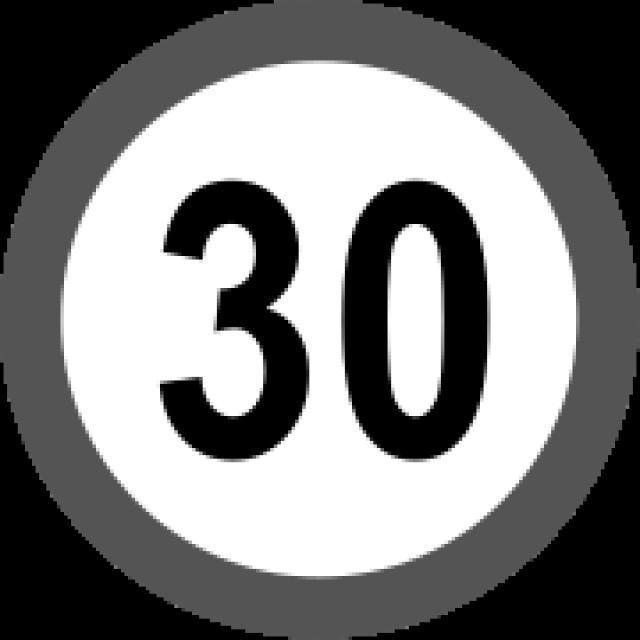speed limit 30: (34, 32, 609, 601)
